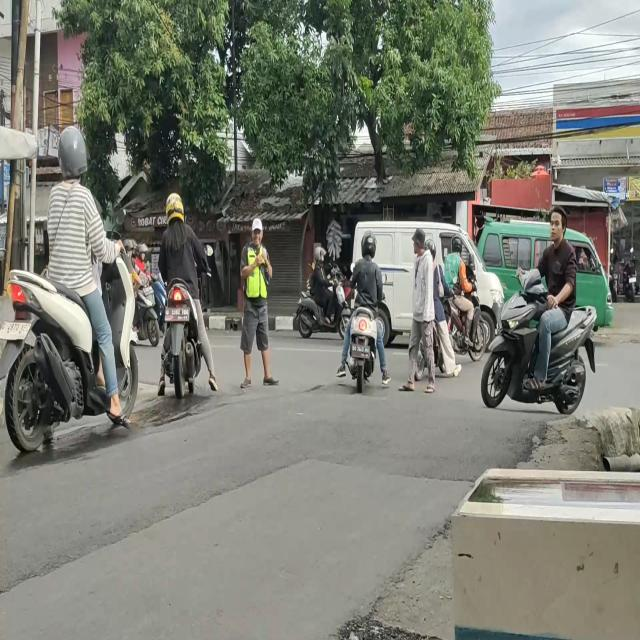helmet: (56, 128, 90, 174), (166, 193, 185, 221), (360, 232, 376, 258), (451, 232, 463, 253), (314, 247, 325, 262)
no-helmet: (548, 207, 568, 240)
